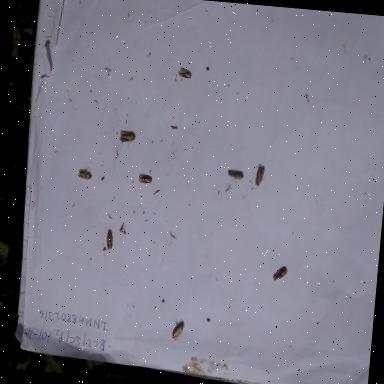pbw: (165, 318, 189, 345), (270, 262, 290, 288), (74, 160, 94, 186), (118, 125, 138, 148), (252, 162, 268, 188), (102, 226, 116, 252), (226, 166, 244, 182), (176, 66, 194, 82), (137, 172, 154, 186)
